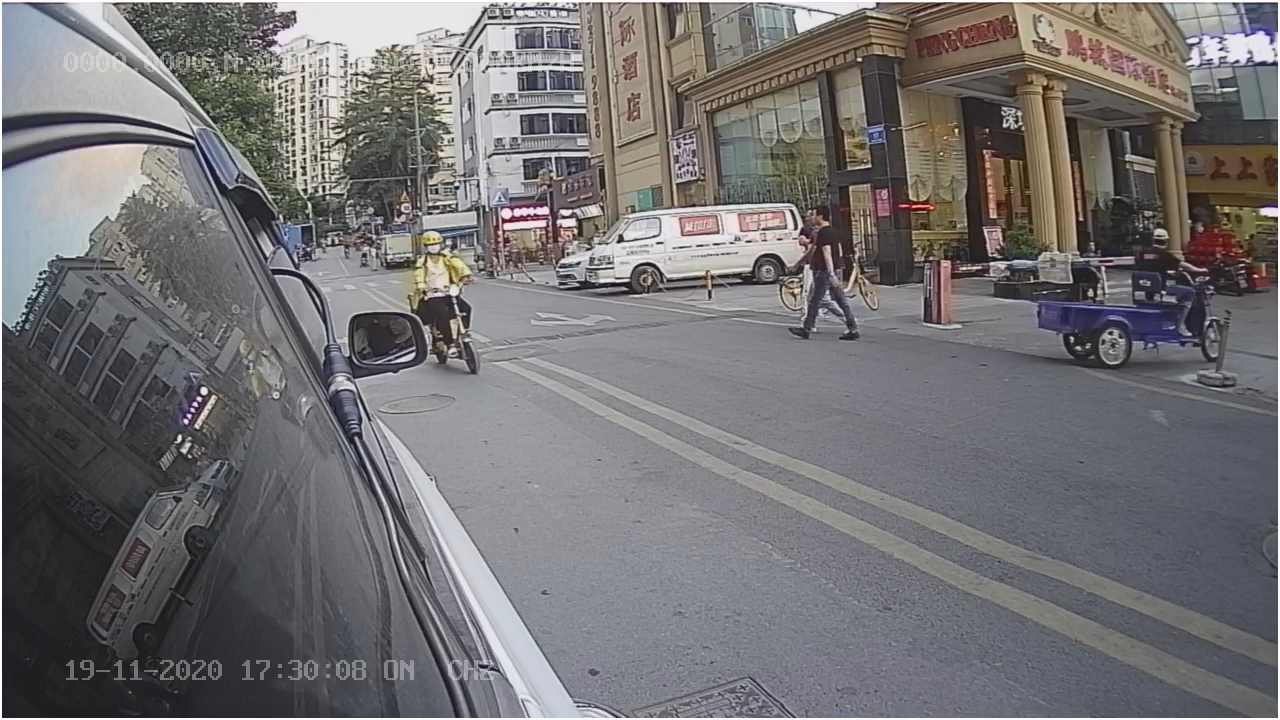person: (405, 234, 471, 285)
